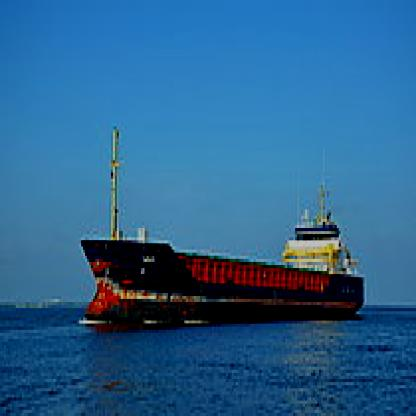Tanker: (69, 185, 382, 330)
